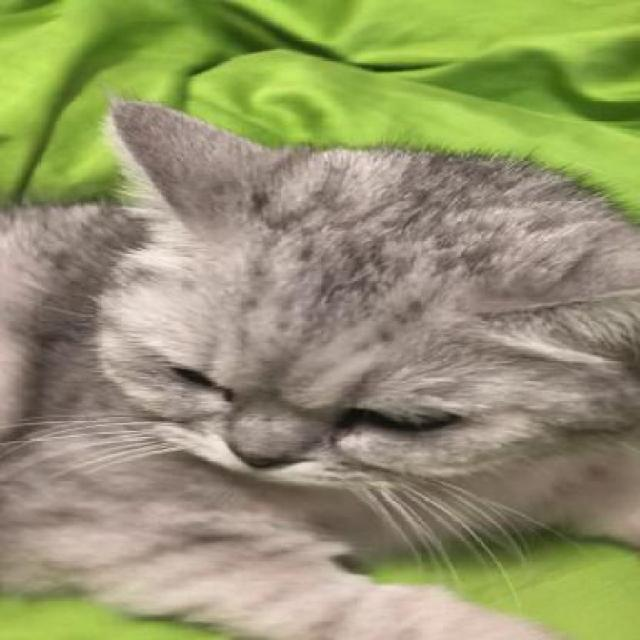cat-face: (101, 103, 639, 490)
